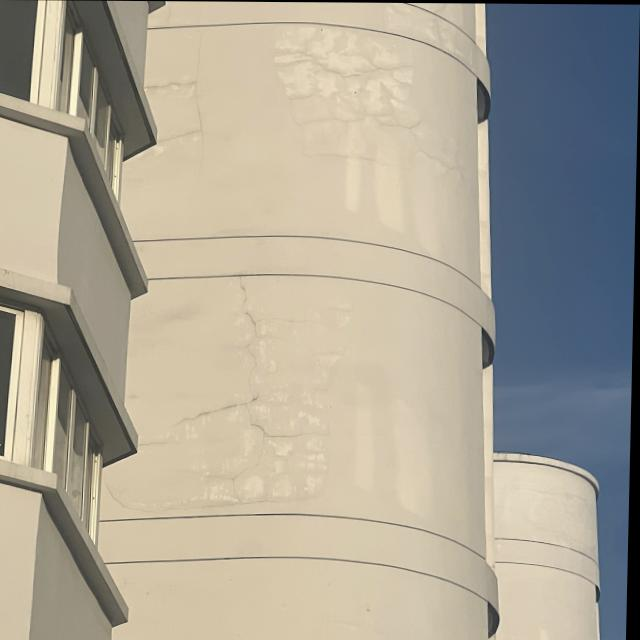crack: (288, 105, 476, 177), (134, 38, 221, 187), (154, 389, 301, 447)
damp: (330, 387, 452, 520)
spalling: (256, 41, 425, 103)
